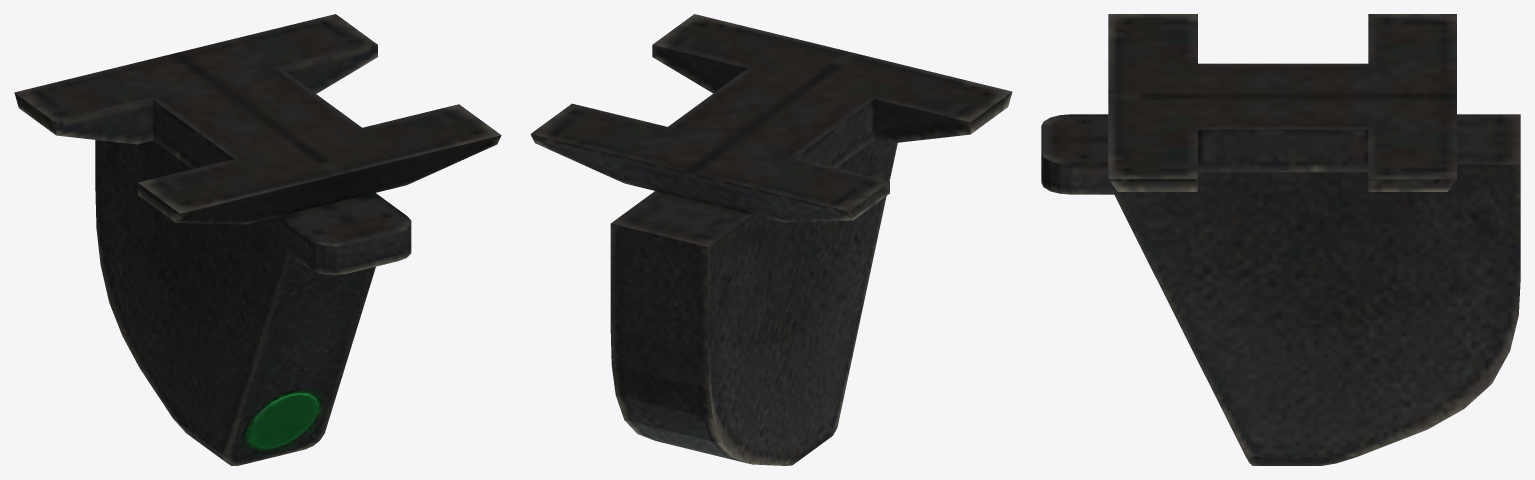
The picture shows the model from 3 angles, left to right: view 1: azimuth 30°, elevation 25°; view 2: azimuth 150°, elevation 25°; view 3: azimuth 270°, elevation 25°; orthographic projection. The views are drawn at different scales.
Visible parts, largest first — view 1: TW_5d3eb536a4b9363b1f22f8e2_PZ_Import; view 2: TW_5d3eb536a4b9363b1f22f8e2_PZ_Import; view 3: TW_5d3eb536a4b9363b1f22f8e2_PZ_Import.
Boxes of the visible parts, x1,y1,x2,y2 form: TW_5d3eb536a4b9363b1f22f8e2_PZ_Import: (14, 14, 501, 465); TW_5d3eb536a4b9363b1f22f8e2_PZ_Import: (530, 14, 1012, 465); TW_5d3eb536a4b9363b1f22f8e2_PZ_Import: (1041, 14, 1520, 465).
Size of the model in its own units: 0.0072 by 0.00885 by 0.00714.
1 material, 1 textured.
